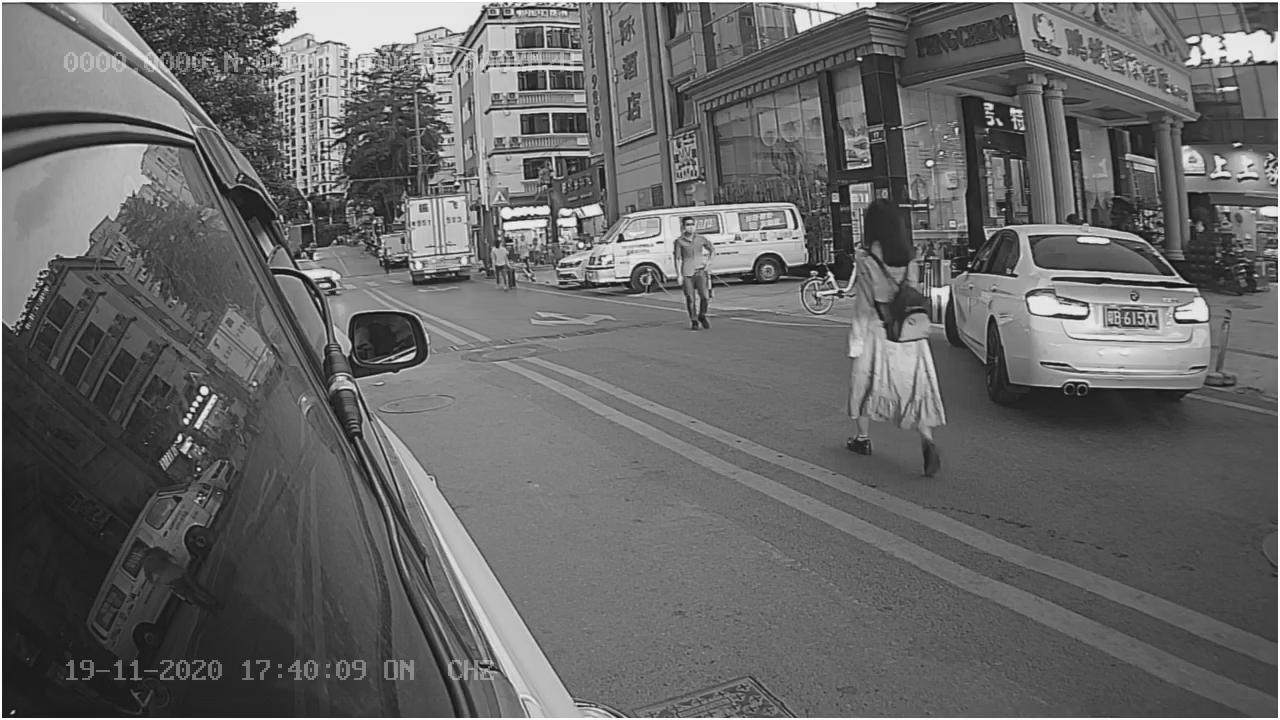person: (838, 196, 951, 480)
